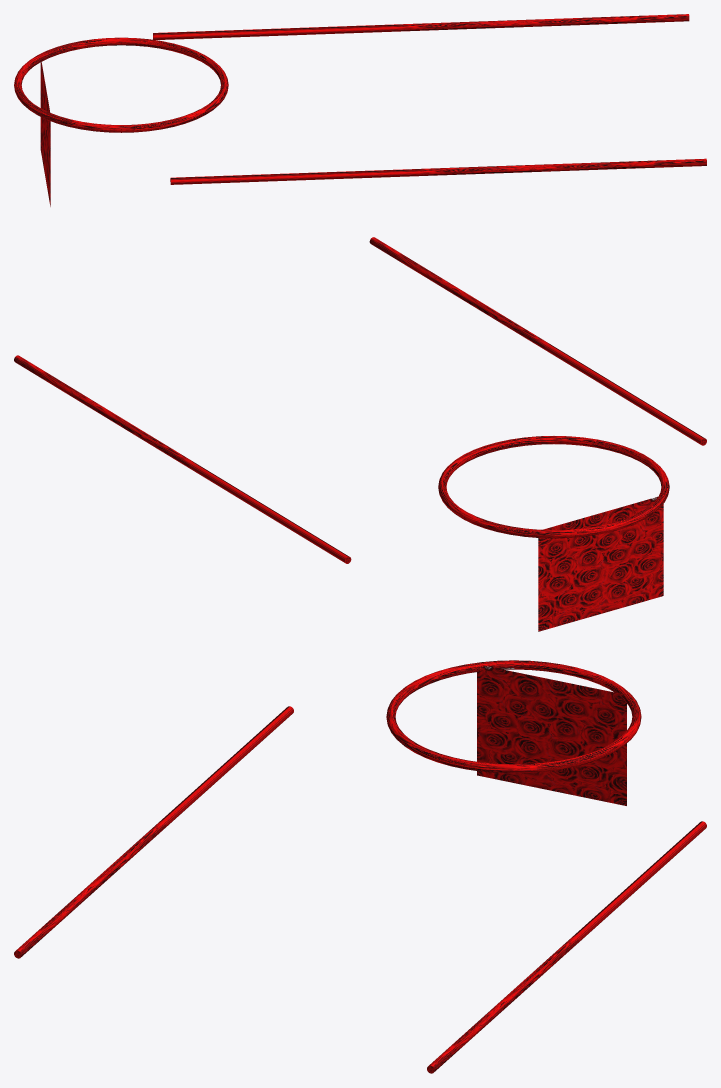
Rendered from testFlowers.gltf.
The picture shows the model from 3 angles, top to bottom: view 1: azimuth 30°, elevation 25°; view 2: azimuth 150°, elevation 25°; view 3: azimuth 270°, elevation 25°; orthographic projection. The views are drawn at different scales.
Visible parts, largest first — view 1: Cylinder, Cylinder.001, Torus.001, Plane; view 2: Plane, Torus.001, Cylinder, Cylinder.001; view 3: Plane, Torus.001, Cylinder, Cylinder.001.
Boxes of the visible parts, x1,y1,x2,y2 form: Cylinder: [170, 158, 706, 184]; Cylinder.001: [153, 14, 689, 39]; Torus.001: [14, 37, 228, 132]; Plane: [40, 59, 50, 206]; Plane: [538, 496, 663, 631]; Torus.001: [438, 436, 669, 538]; Cylinder: [369, 237, 706, 445]; Cylinder.001: [14, 355, 351, 563]; Plane: [477, 665, 626, 805]; Torus.001: [386, 660, 641, 773]; Cylinder: [14, 706, 293, 958]; Cylinder.001: [427, 821, 706, 1073].
Bounding box in the file's own units: 29.96 × 4.33 × 24.13.
4 materials, 4 textured.
